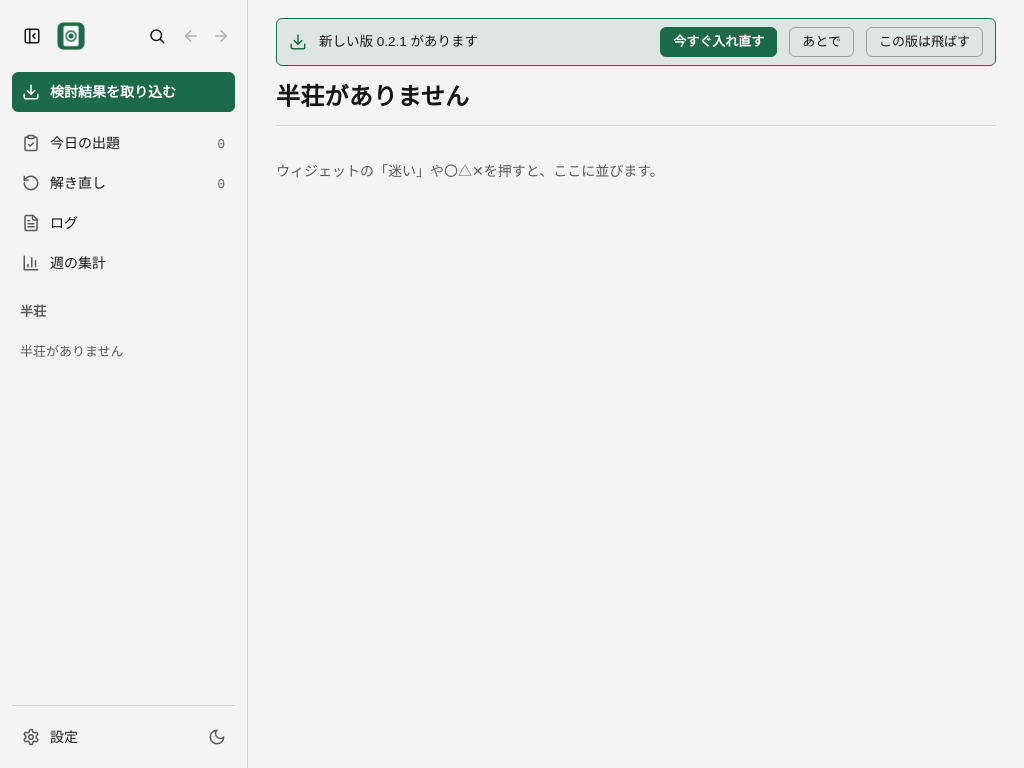
更新の帯（U-51） › 飛ばす設定を保存できなかったら、理由を出して、帯は残す
Click the button "この版は飛ばす" at (924, 42), box x1=866 y1=27 x2=983 y2=57
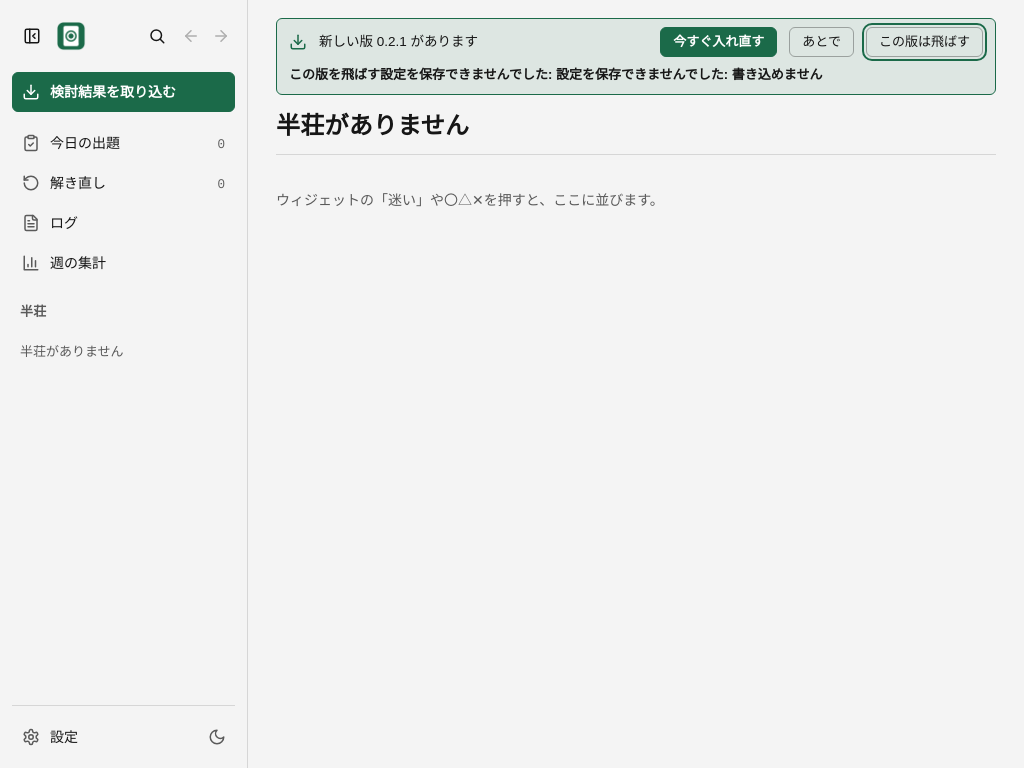
expect the element named "アプリの更新" is shown: met, box x1=276 y1=18 x2=996 y2=95
expect the message "この版を飛ばす設定を保存できませんでした: 設定を保存できませんでした: 書き込めません" is shown: met, box x1=289 y1=67 x2=822 y2=82
